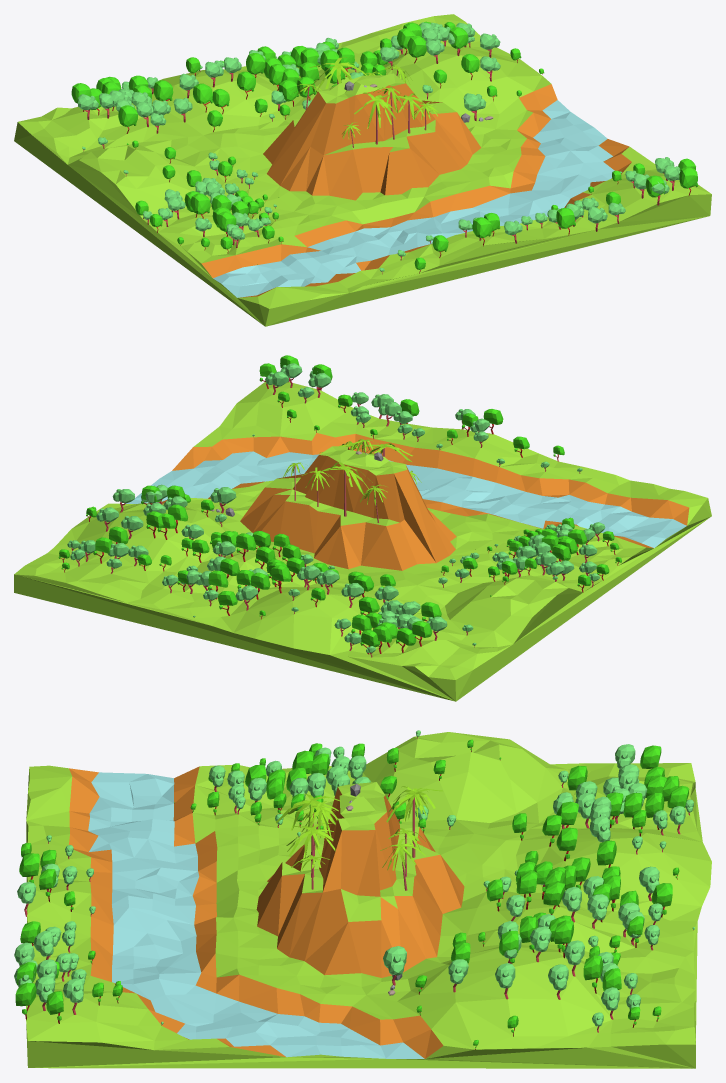
File: escenario1.glb
3 renders of one model, top to bottom at view 1: azimuth 30°, elevation 25°; view 2: azimuth 150°, elevation 25°; view 3: azimuth 270°, elevation 25°, orthographic. The views are drawn at different scales.
Parts seen in each view (by area): view 1: Cube, Cube.037, Cylinder.003; view 2: Cube, Cube.037; view 3: Cube, Cube.037, Cylinder.003, Cylinder.005, Cylinder.000, Sphere.
Part boxes in pixels (x1,y1,x2,y2): Cube: (14, 14, 711, 326); Cube.037: (71, 21, 698, 274); Cylinder.003: (354, 92, 397, 144); Cube: (14, 382, 711, 701); Cube.037: (58, 355, 621, 657); Cube: (26, 732, 711, 1068); Cube.037: (14, 730, 694, 1049); Cylinder.003: (276, 793, 340, 860); Cylinder.005: (386, 788, 442, 857); Cylinder.000: (286, 823, 335, 877); Sphere: (383, 946, 406, 985).
Size of the model in its own units: 287 by 62.88 by 291.
